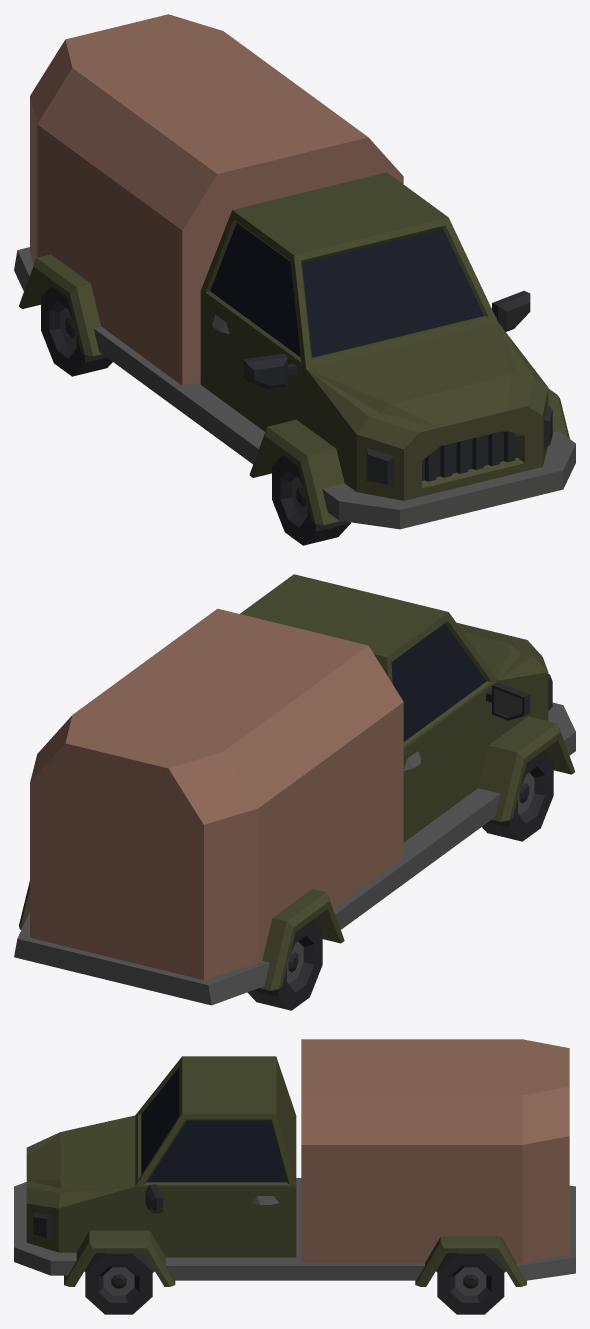
File: LPWarPack_Truck2.fbx
3 renders of one model, top to bottom at view 1: azimuth 30°, elevation 25°; view 2: azimuth 150°, elevation 25°; view 3: azimuth 270°, elevation 25°, orthographic. The views are drawn at different scales.
Parts seen in each view (by area): view 1: Truck2; view 2: Truck2; view 3: Truck2.
Part boxes in pixels (x1,y1,x2,y2): Truck2: [14, 14, 575, 545]; Truck2: [14, 574, 575, 1010]; Truck2: [14, 1039, 575, 1314].
Size of the model in its own units: 203 by 182 by 456.
